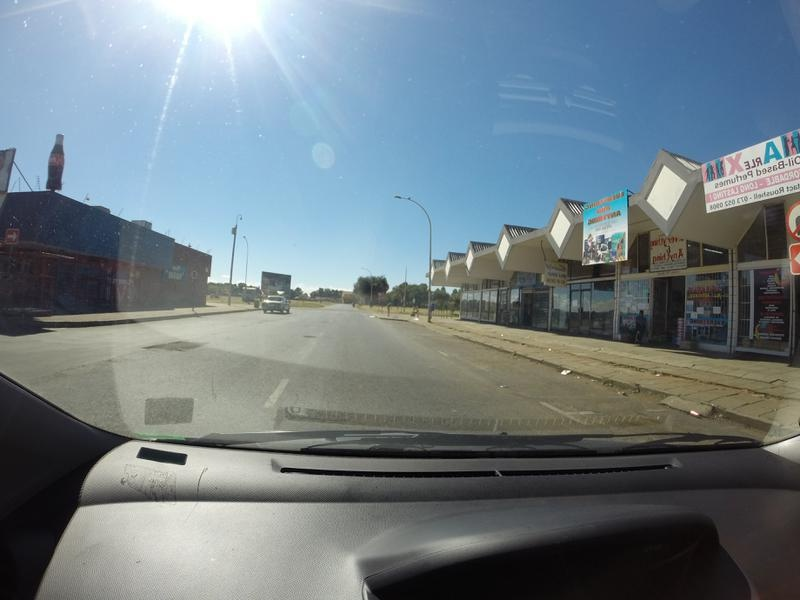pothole: (144, 336, 204, 350), (299, 333, 314, 340)
